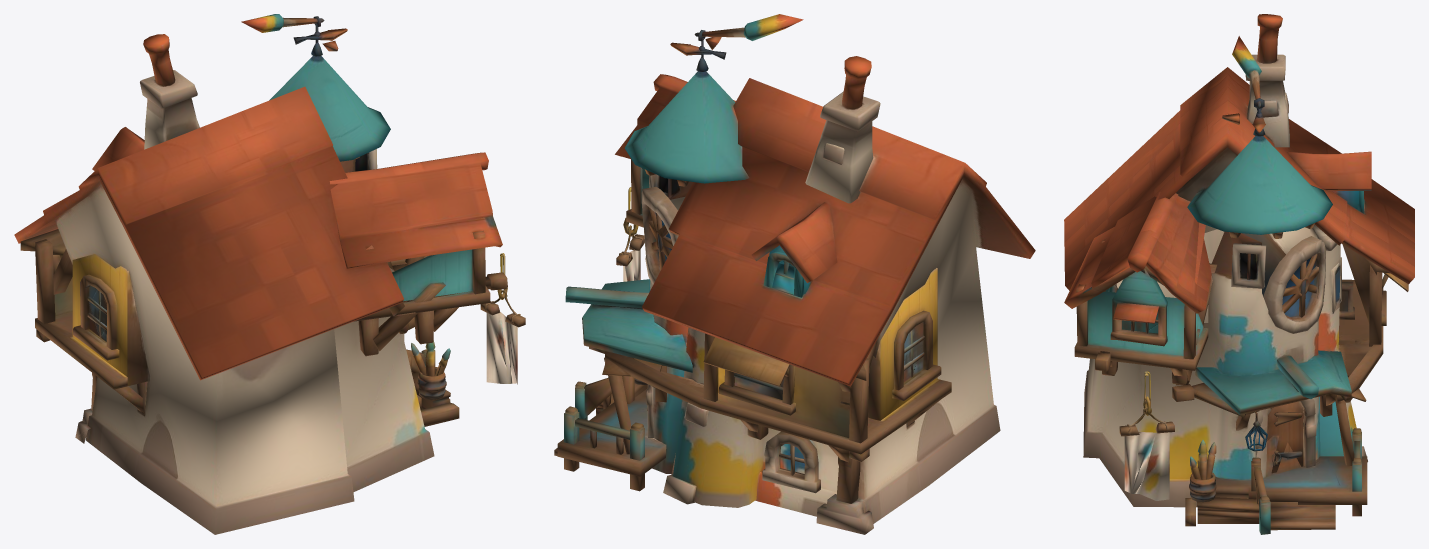
Rendered from atelier-web.glb.
3 renders of one model, left to right at view 1: azimuth 30°, elevation 25°; view 2: azimuth 150°, elevation 25°; view 3: azimuth 270°, elevation 25°, orthographic. The views are drawn at different scales.
Visible parts, largest first — view 1: tripo_node_9792b712-e4ec-42df-98ec-2d0c51b7b0dd; view 2: tripo_node_9792b712-e4ec-42df-98ec-2d0c51b7b0dd; view 3: tripo_node_9792b712-e4ec-42df-98ec-2d0c51b7b0dd.
Boxes of the visible parts, <box> form: tripo_node_9792b712-e4ec-42df-98ec-2d0c51b7b0dd: <box>14,14,525,534</box>; tripo_node_9792b712-e4ec-42df-98ec-2d0c51b7b0dd: <box>554,14,1035,534</box>; tripo_node_9792b712-e4ec-42df-98ec-2d0c51b7b0dd: <box>1064,14,1414,534</box>.
Bounding box in the file's own units: 0.9082 × 0.998 × 0.7793.
1 material, 1 textured.
